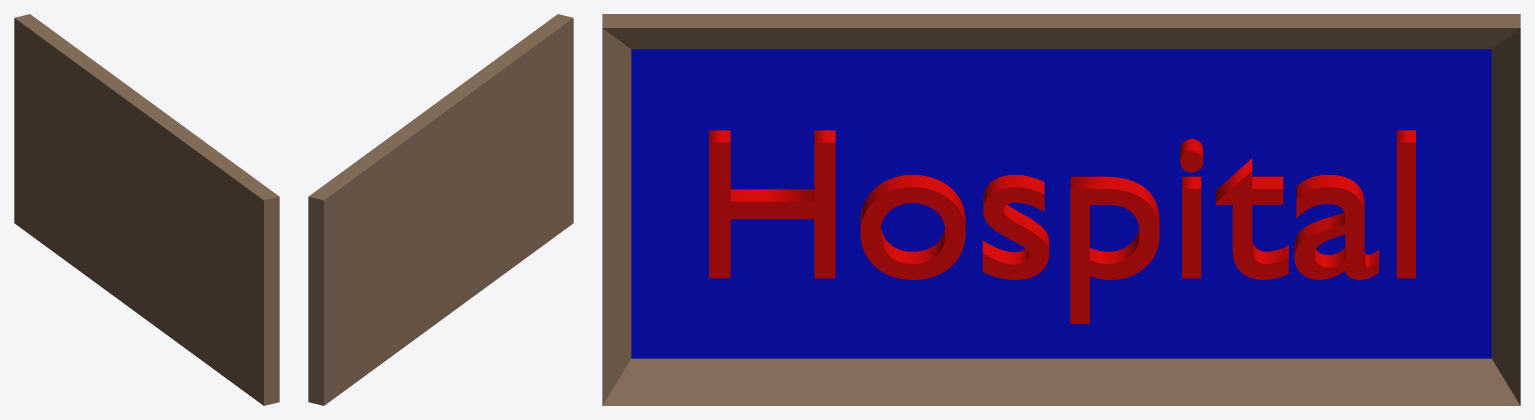
The model's file is Sign_Hospital.fbx.
The picture shows the model from 3 angles, left to right: view 1: azimuth 30°, elevation 25°; view 2: azimuth 150°, elevation 25°; view 3: azimuth 270°, elevation 25°; orthographic projection. The views are drawn at different scales.
Visible parts, largest first — view 1: Hospital; view 2: Hospital; view 3: Hospital, Text.
Boxes of the visible parts, box(x1,y1,x2,y2) form: Hospital: box(14, 14, 279, 405); Hospital: box(308, 14, 573, 405); Hospital: box(602, 14, 1520, 405); Text: box(709, 130, 1415, 323).
Size of the model in its own units: 17.78 by 200 by 440.
